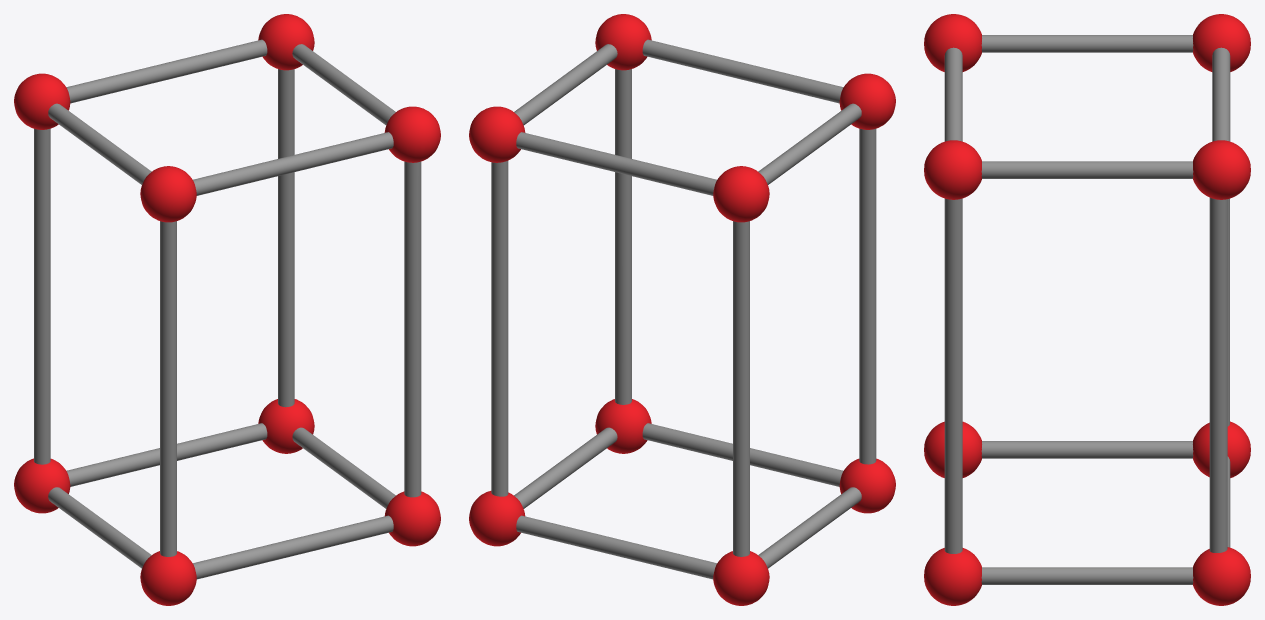
3 views of the same model, side by side, from view 1: azimuth 30°, elevation 25°; view 2: azimuth 150°, elevation 25°; view 3: azimuth 270°, elevation 25° (orthographic). The views are drawn at different scales.
Parts seen in each view (by area): view 1: Цилиндр_Node (×12), Сферы_Node (×8); view 2: Цилиндр_Node (×12), Сферы_Node (×8); view 3: Цилиндр_Node (×9), Сферы_Node (×8).
Part boxes in pixels (x1=…): Цилиндр_Node (×12): x1=34, y1=39, x2=421, y2=579; Сферы_Node (×8): x1=14, y1=14, x2=440, y2=605; Цилиндр_Node (×12): x1=491, y1=39, x2=876, y2=579; Сферы_Node (×8): x1=469, y1=14, x2=895, y2=605; Цилиндр_Node (×9): x1=944, y1=35, x2=1230, y2=584; Сферы_Node (×8): x1=924, y1=14, x2=1250, y2=605.
Size of the model in its own units: 2.36 by 3.35 by 2.15.
Materials: 13 (1 with a texture image).
